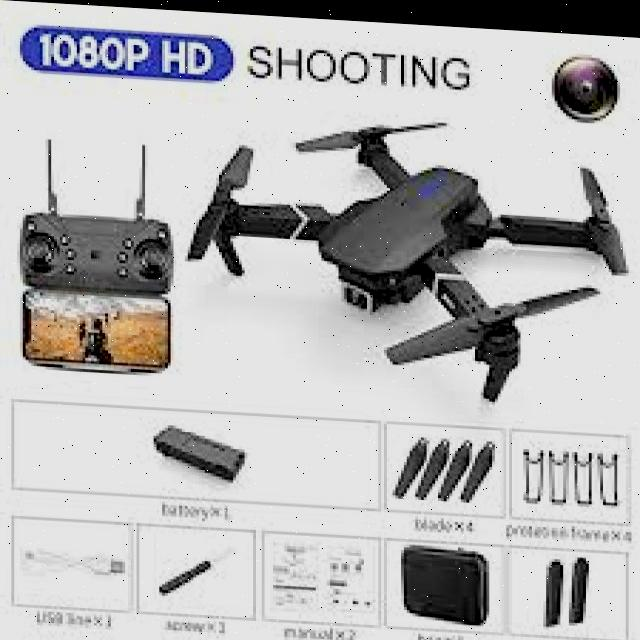drone: (180, 100, 640, 410)
